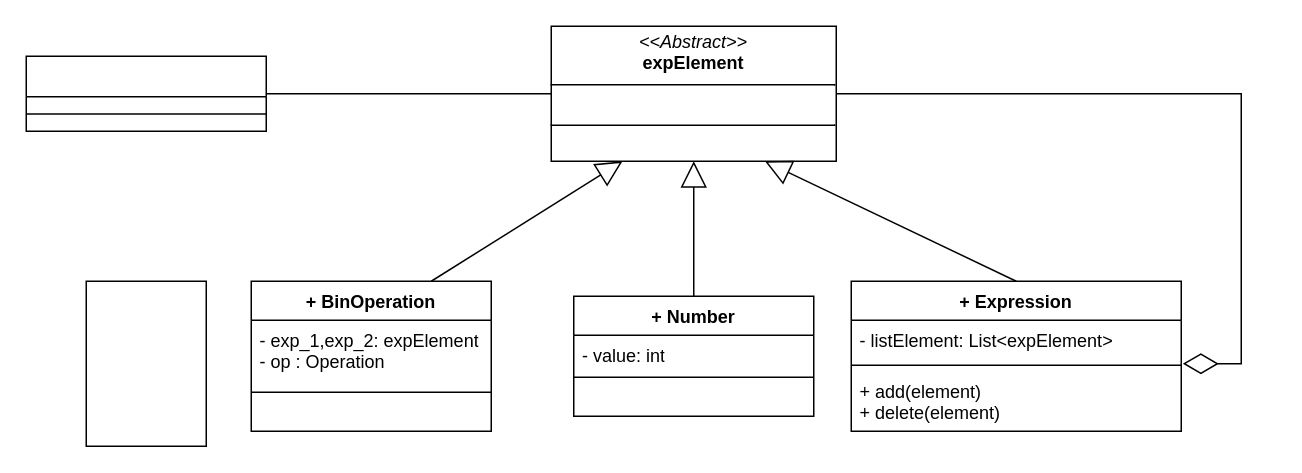
Some shapes in this 1302 by 473 pixel diagram are drawn without their labels. Each missing label, with the centre of its shape:
+ Client: the point at 145,93
<<Enum>> Operation DIV SUB MUL PLUS: the point at 145,363
